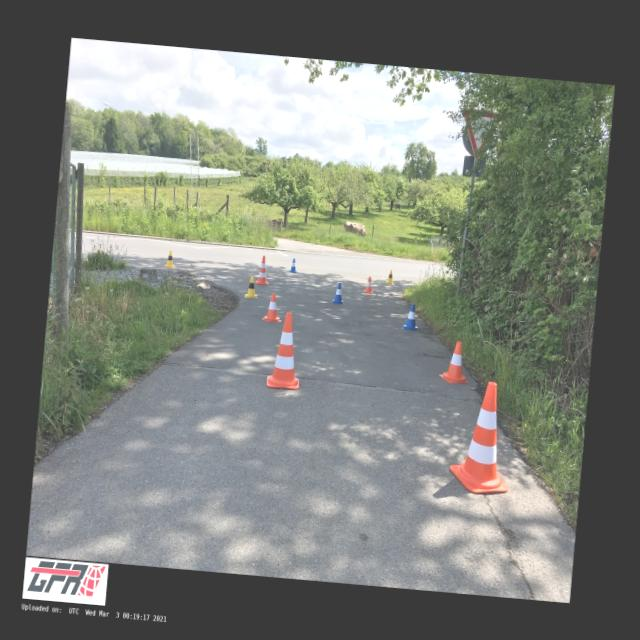blue_cone: (402, 303, 419, 331), (330, 282, 346, 304), (288, 258, 298, 273)
large_orange_cone: (448, 378, 516, 494), (267, 310, 305, 388), (254, 255, 270, 285)
orange_cone: (438, 340, 473, 384), (264, 291, 282, 321), (362, 276, 374, 294)
yellow_cone: (244, 275, 258, 299), (165, 248, 176, 268), (384, 269, 394, 284)
